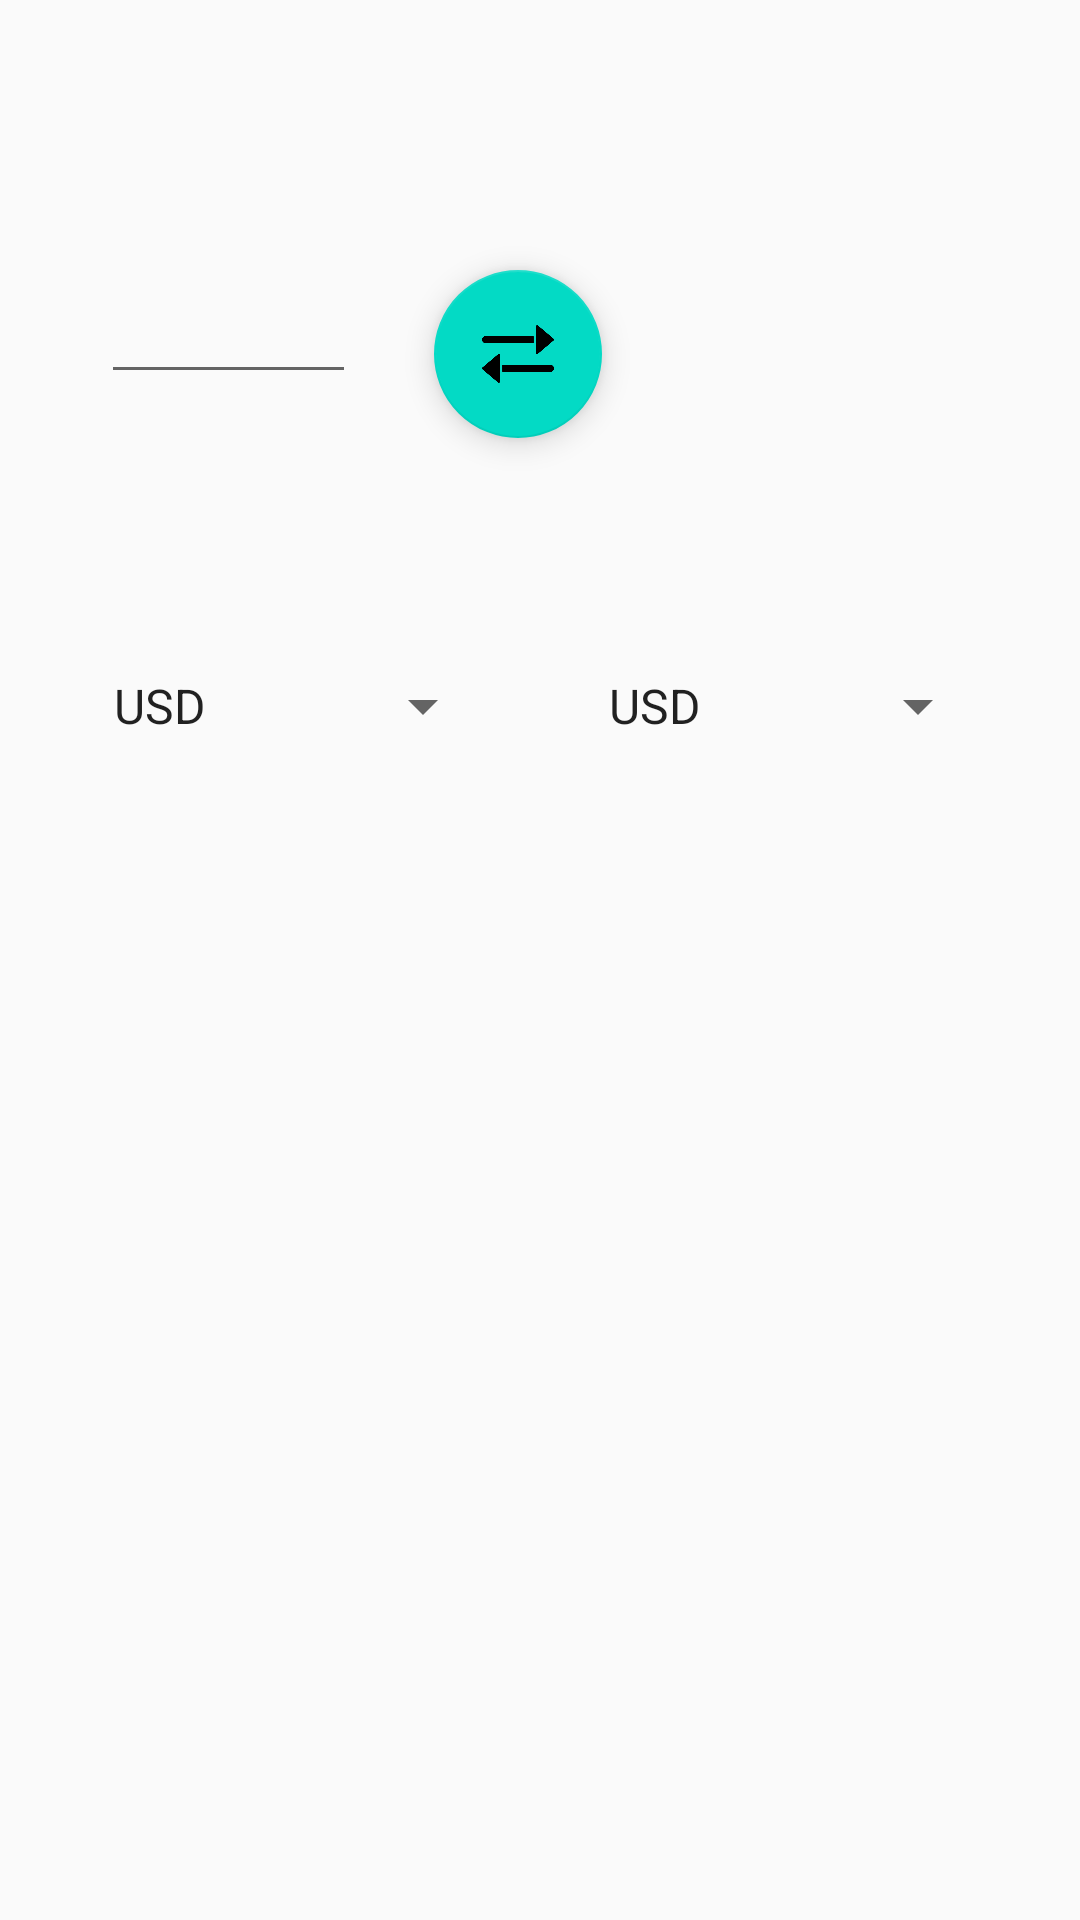

Where icons sit on this 1080w x 1920h app screen, as (x1, y1, x2, y2):
reverse: (434, 270, 602, 438)
